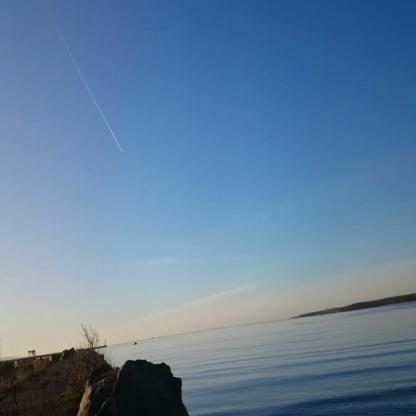CIV_Plane: (119, 144, 127, 156)
